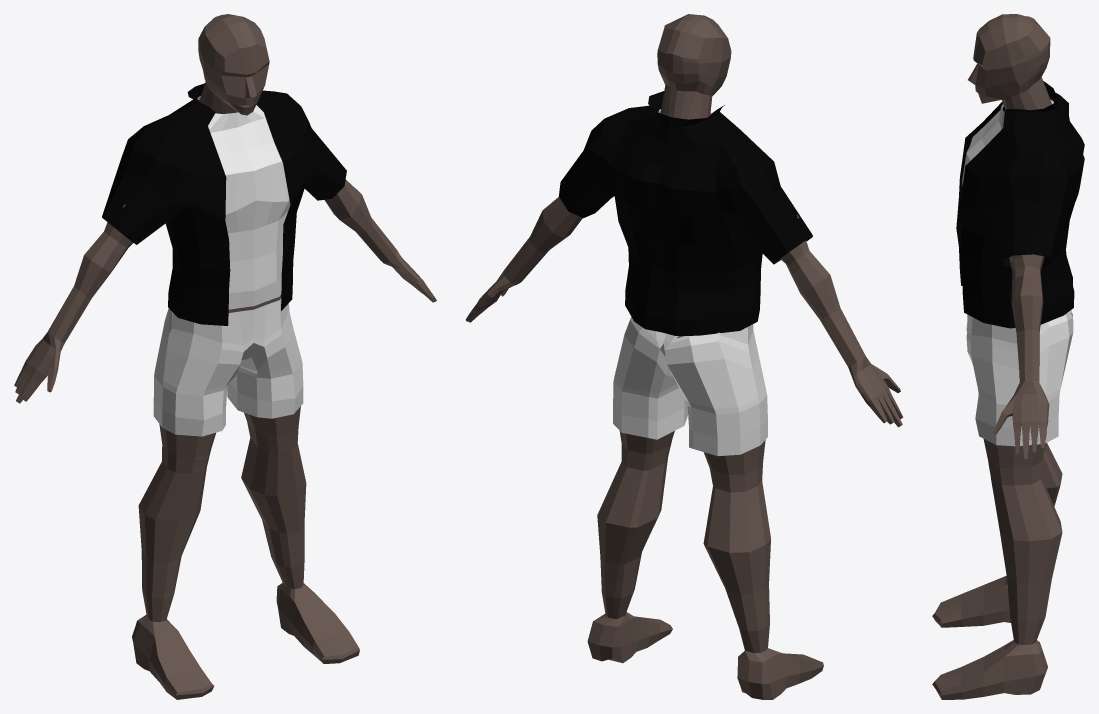
Rendered from player_char.fbx.
3 renders of one model, left to right at view 1: azimuth 30°, elevation 25°; view 2: azimuth 150°, elevation 25°; view 3: azimuth 270°, elevation 25°, orthographic. The views are drawn at different scales.
Visible parts, largest first — view 1: polySurface12, polySurface10, polySurface13, polySurface11; view 2: polySurface12, polySurface10, polySurface13; view 3: polySurface12, polySurface10, polySurface13, polySurface11.
Boxes of the visible parts, x1,y1,x2,y2 form: polySurface12: [14, 14, 436, 699]; polySurface10: [102, 83, 346, 325]; polySurface13: [153, 298, 303, 436]; polySurface11: [197, 96, 290, 309]; polySurface12: [465, 14, 903, 699]; polySurface10: [559, 91, 812, 335]; polySurface13: [613, 316, 767, 456]; polySurface12: [932, 14, 1062, 699]; polySurface10: [956, 81, 1084, 328]; polySurface13: [966, 310, 1073, 446]; polySurface11: [962, 100, 1053, 185].
Size of the model in its own units: 12.85 by 18.58 by 4.03.
